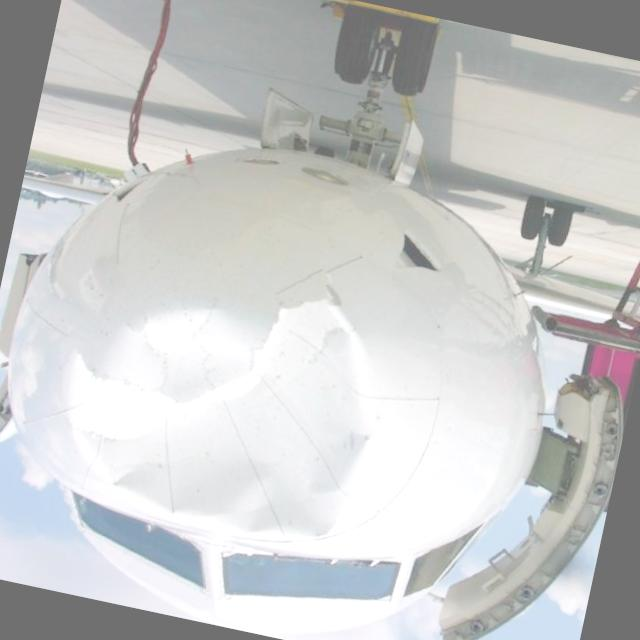dent: (63, 292, 381, 542)
